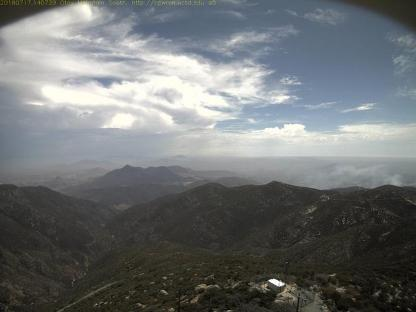smoke: (306, 156, 404, 192)
